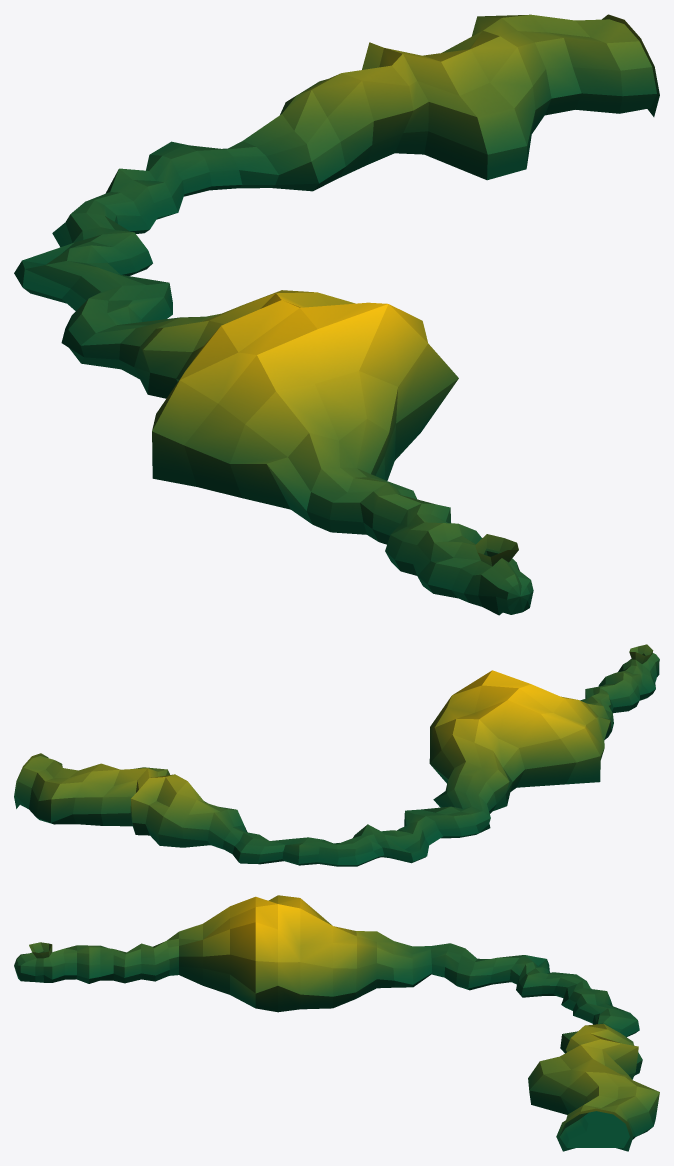
The model's file is MOD_Cave_V1.fbx.
3 views of the same model, one above another, from view 1: azimuth 30°, elevation 25°; view 2: azimuth 150°, elevation 25°; view 3: azimuth 270°, elevation 25° (orthographic). The views are drawn at different scales.
Visible parts, largest first — view 1: pTorus1; view 2: pTorus1; view 3: pTorus1.
Boxes of the visible parts, left/top/right/bottom form: pTorus1: left=14, top=14, right=659, bottom=615; pTorus1: left=14, top=644, right=659, bottom=866; pTorus1: left=14, top=895, right=659, bottom=1151.
Bounding box in the file's own units: 22.53 × 4.09 × 29.53.
Materials: 1 (1 with a texture image).
